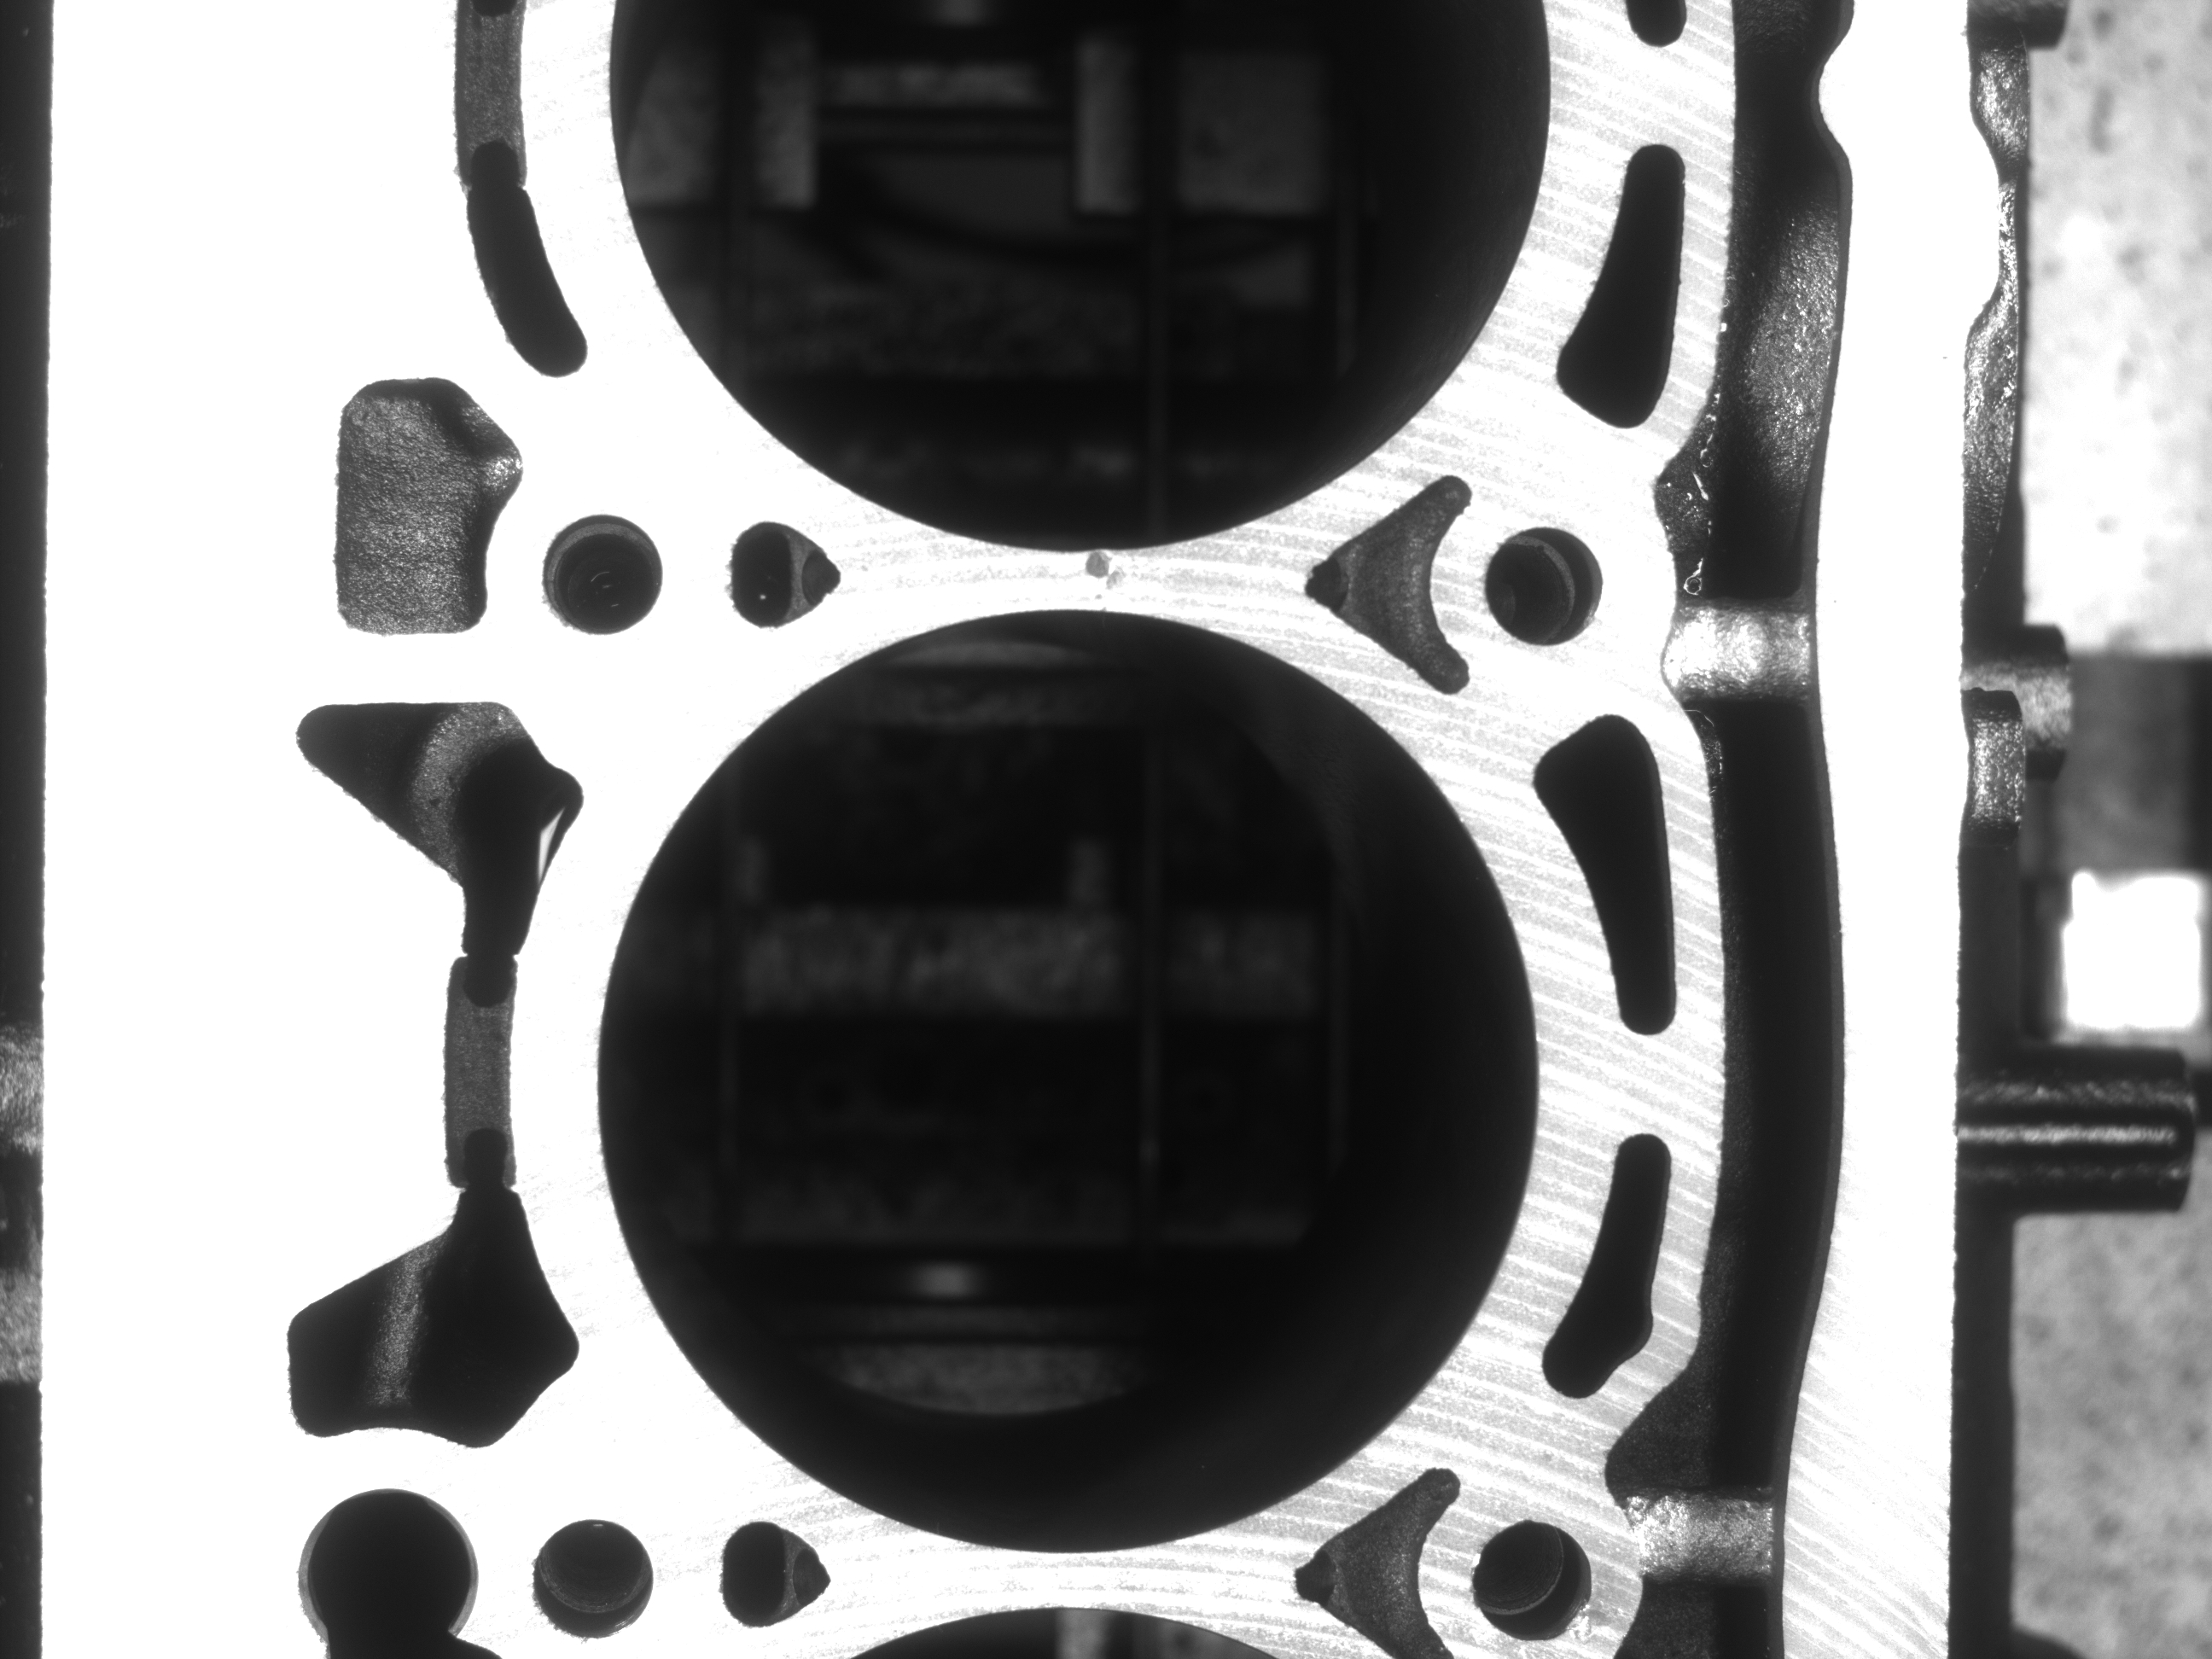sandhole: (1064, 540, 1127, 582)
shrinkage: (1569, 1589, 1615, 1645)
